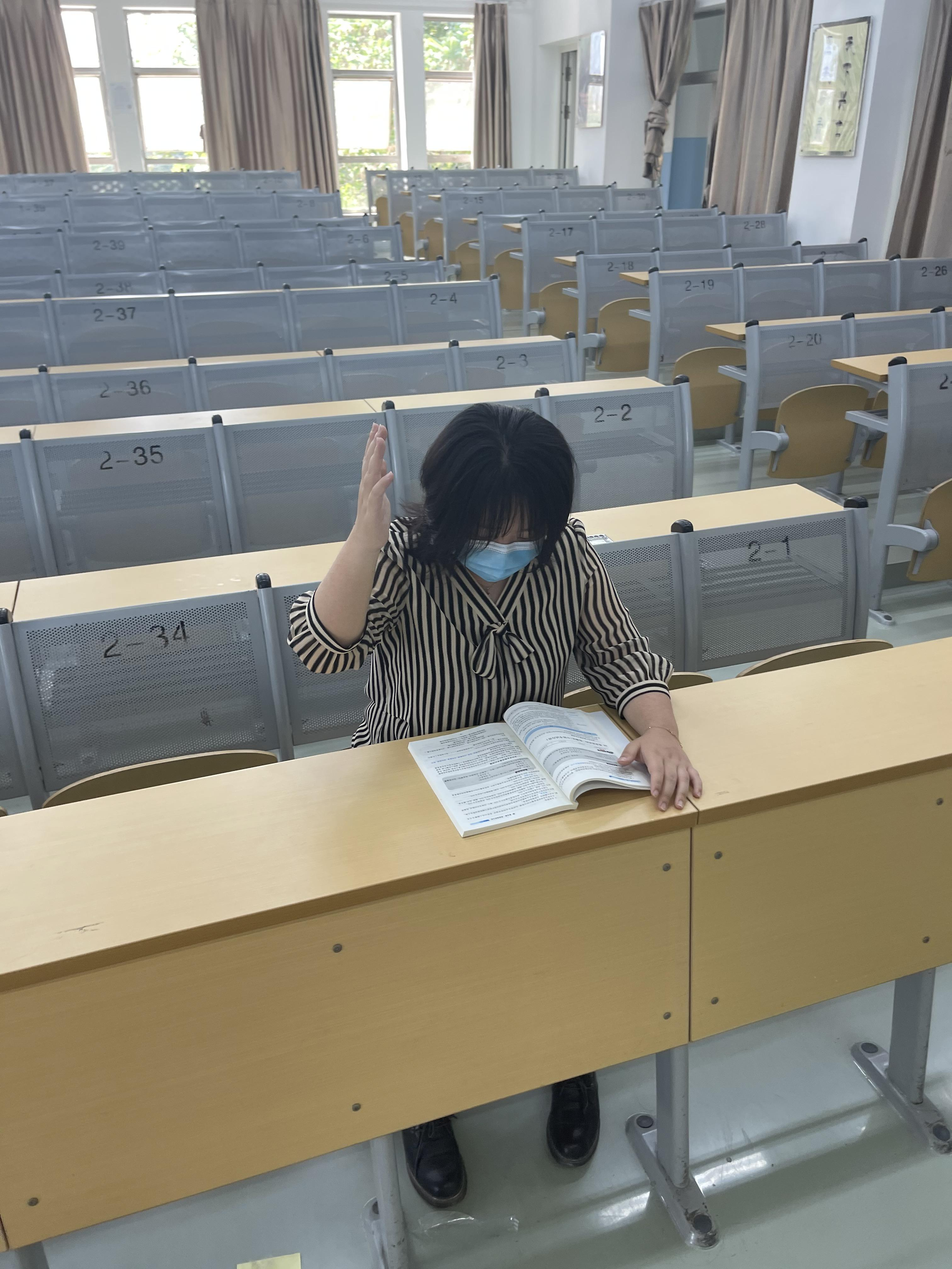study: (286, 410, 712, 818)
